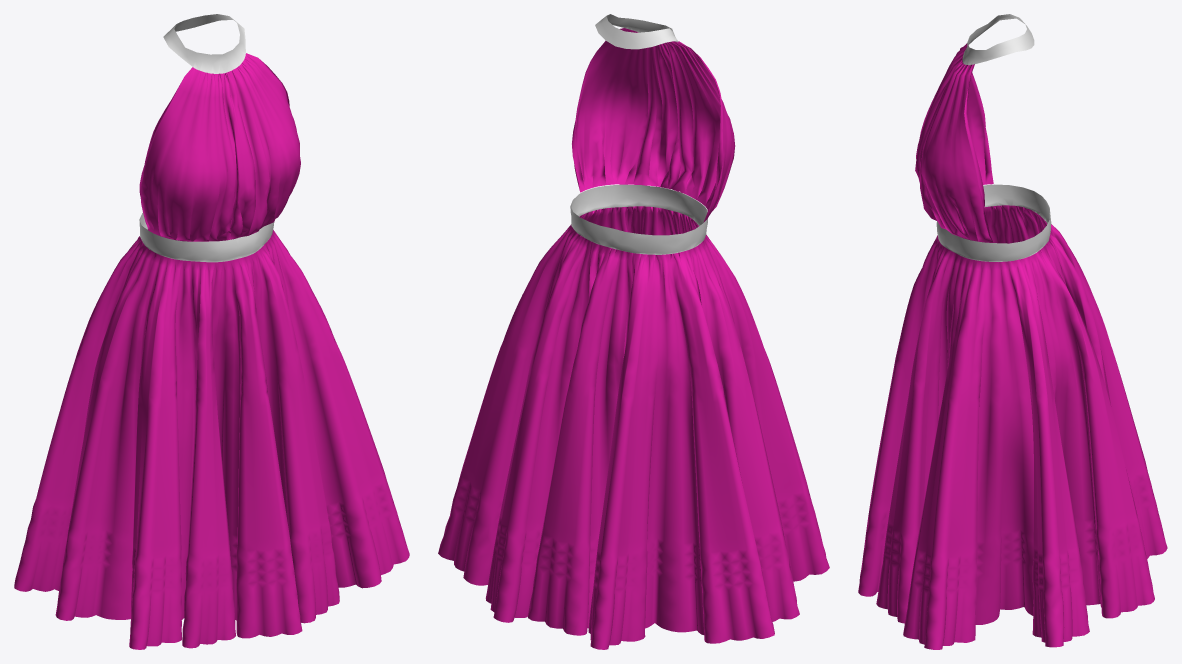
Rendered from meshdress.fbx.
3 views of the same model, side by side, from view 1: azimuth 30°, elevation 25°; view 2: azimuth 150°, elevation 25°; view 3: azimuth 270°, elevation 25° (orthographic). The views are drawn at different scales.
Parts seen in each view (by area): view 1: Skirt, Top, Detail; view 2: Skirt, Top, Detail; view 3: Skirt, Top, Detail.
Boxes of the visible parts, bbox=[...] form: Skirt: bbox=[14, 229, 409, 649]; Top: bbox=[139, 53, 300, 241]; Detail: bbox=[139, 14, 274, 262]; Skirt: bbox=[438, 206, 829, 649]; Top: bbox=[572, 28, 735, 222]; Detail: bbox=[570, 14, 707, 254]; Skirt: bbox=[858, 205, 1167, 649]; Top: bbox=[915, 43, 993, 242]; Detail: bbox=[936, 14, 1051, 261].
Size of the model in its own units: 61.91 by 101 by 50.32.
